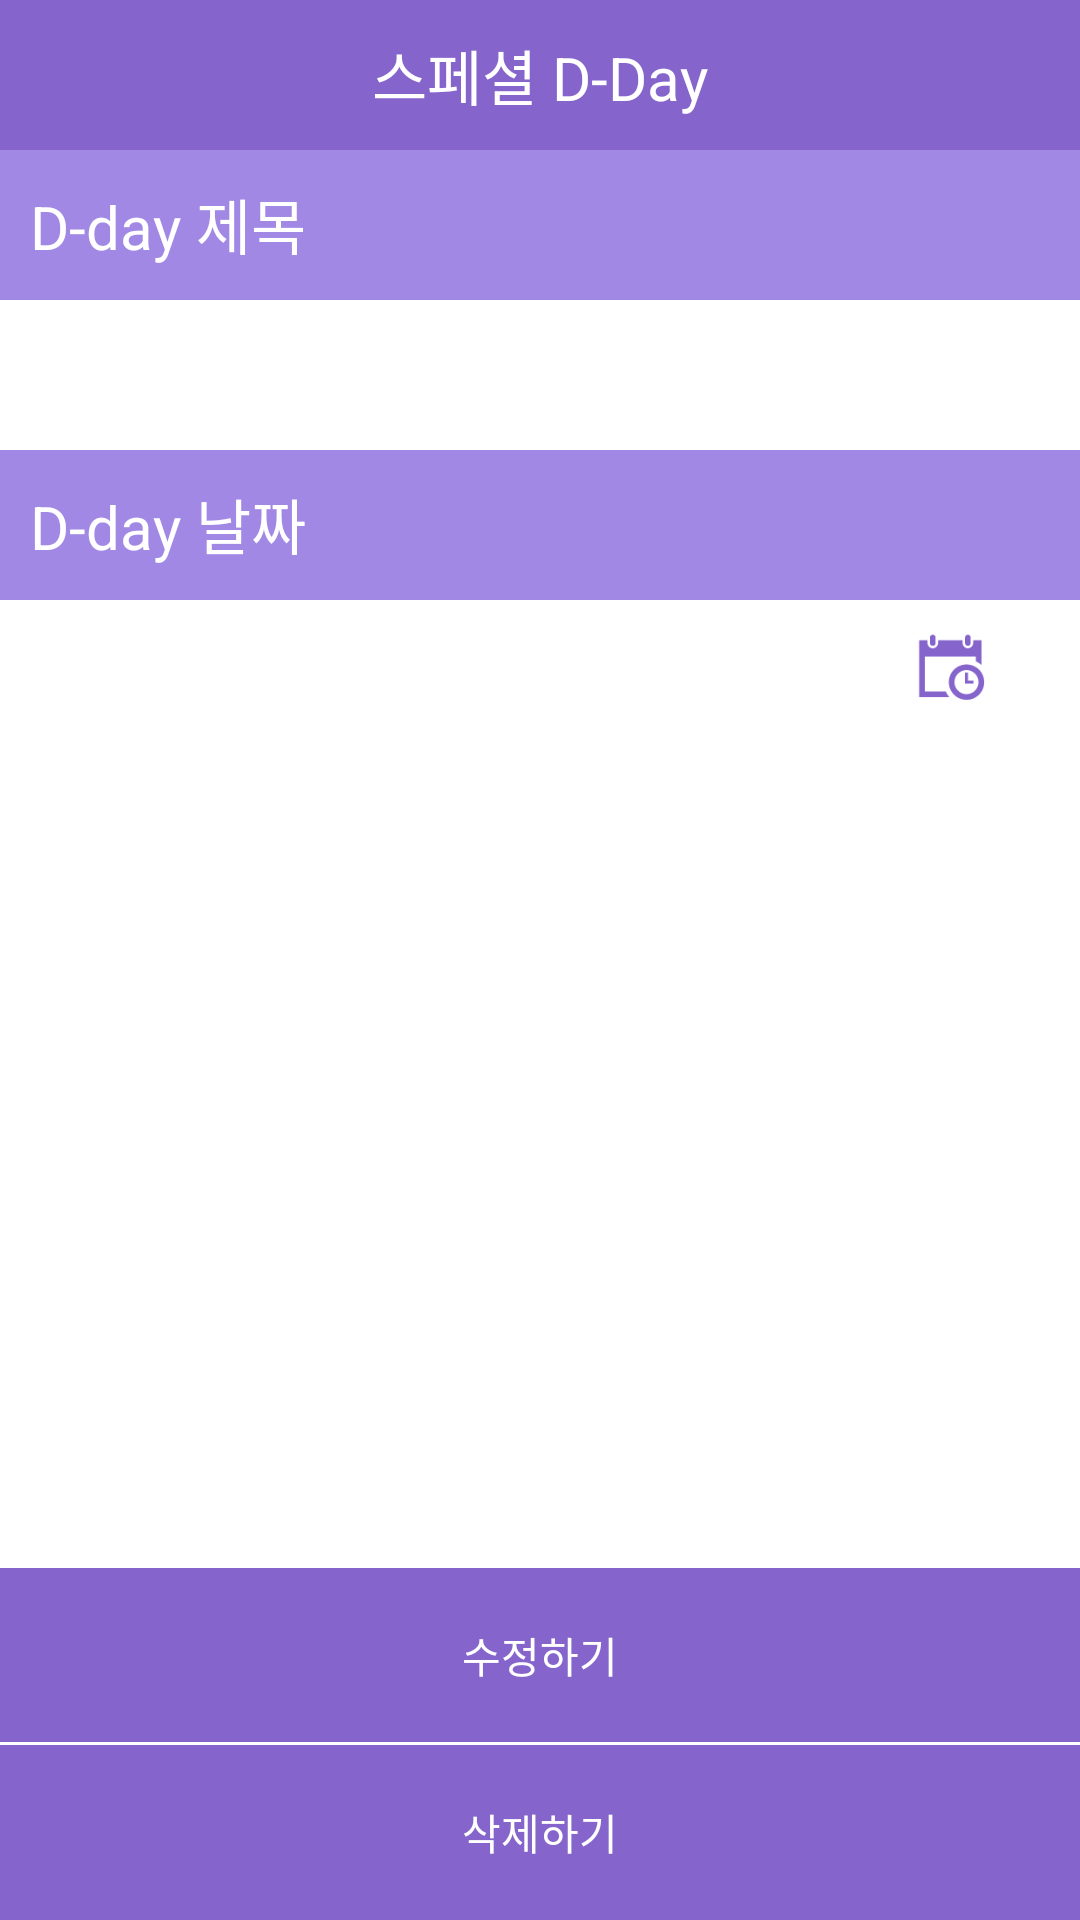

Screen size 1080 × 1920. Icon name, then its box in pixels as region(x1, y1, x2, y2):
specialday calendar: region(919, 634, 984, 700)
